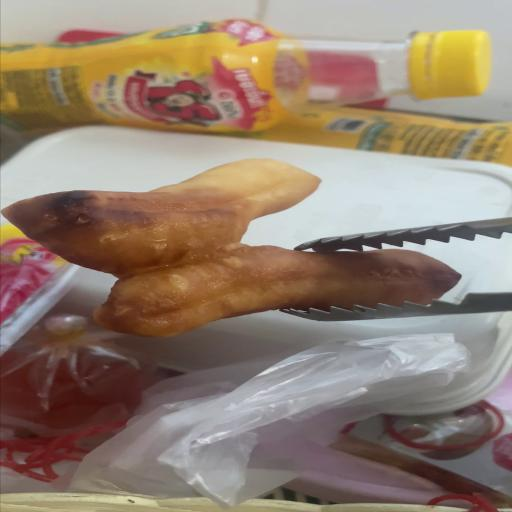street_burnt_good: (2, 159, 459, 336)
